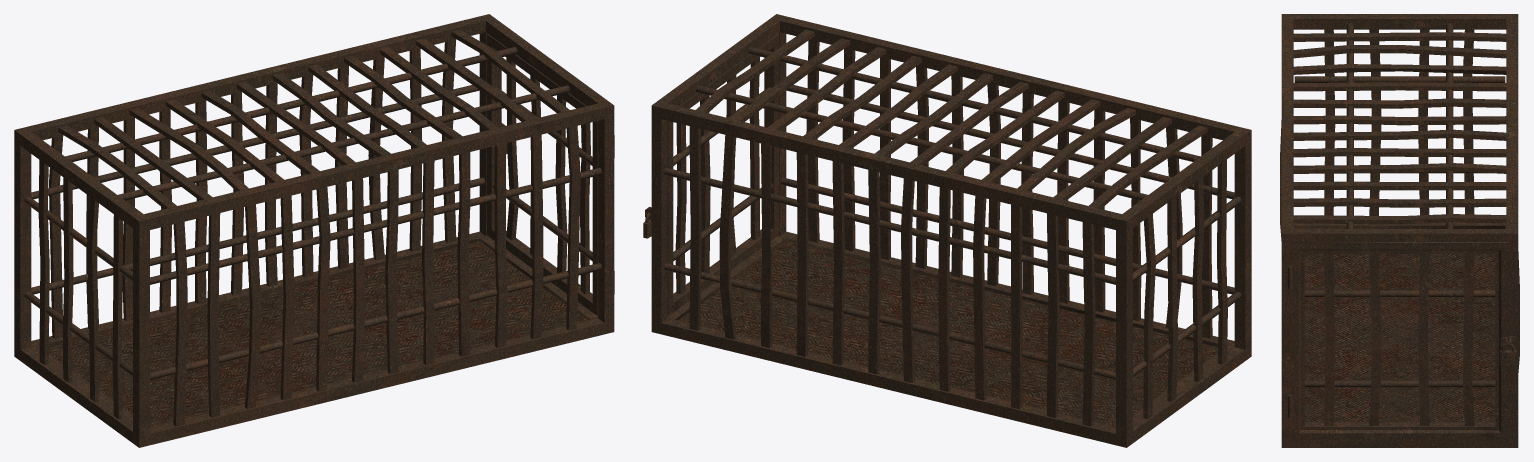
Rendered from cage_mx_1.glb.
3 views of the same model, side by side, from view 1: azimuth 30°, elevation 25°; view 2: azimuth 150°, elevation 25°; view 3: azimuth 270°, elevation 25° (orthographic). The views are drawn at different scales.
Parts seen in each view (by area): view 1: cage_mx_1, cage_mx_1_door; view 2: cage_mx_1, cage_mx_1_door; view 3: cage_mx_1, cage_mx_1_door, padlock_mx_1.
Boxes of the visible parts, left/top/right/bottom form: cage_mx_1: left=14, top=14, right=614, bottom=447; cage_mx_1_door: left=486, top=33, right=614, bottom=316; cage_mx_1: left=645, top=14, right=1251, bottom=447; cage_mx_1_door: left=647, top=33, right=779, bottom=315; cage_mx_1: left=1280, top=14, right=1519, bottom=447; cage_mx_1_door: left=1288, top=242, right=1508, bottom=439; padlock_mx_1: left=1500, top=342, right=1516, bottom=365.
Size of the model in its own units: 4.49 by 2.01 by 2.03.
2 materials, 2 textured.
